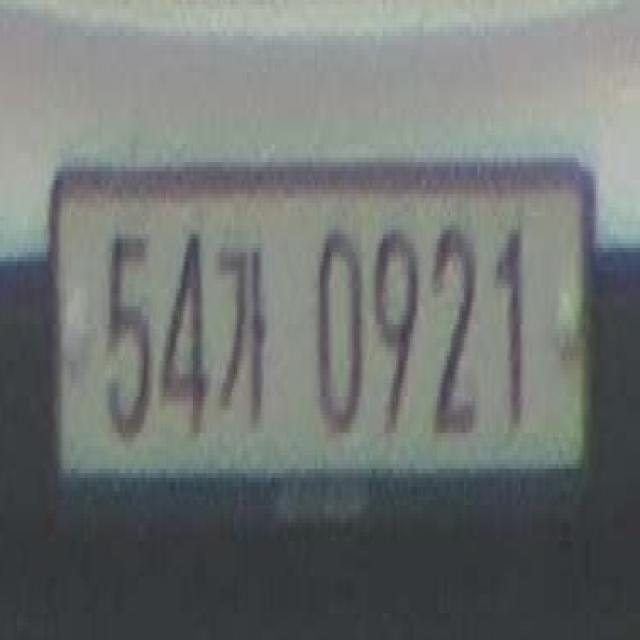0: (310, 207, 364, 451)
1: (482, 212, 532, 451)
2: (423, 212, 481, 455)
4: (157, 212, 217, 446)
5: (98, 203, 154, 451)
9: (361, 198, 423, 446)
ga: (218, 239, 274, 424)
license_plate: (39, 158, 594, 536)
